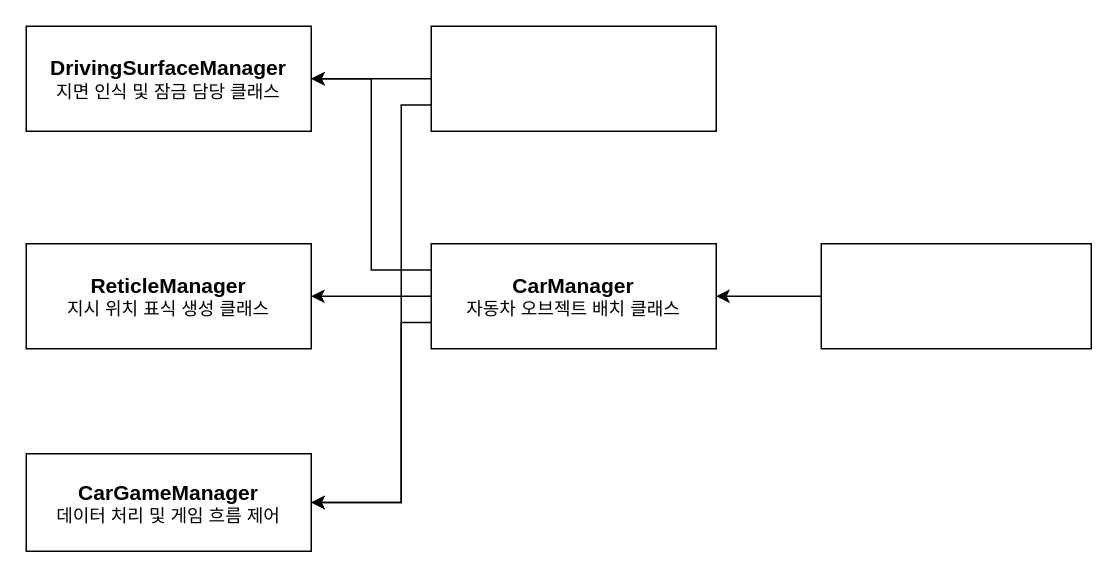
The diagram is 1118 pixels wide and 578 high, and some of its shapes have lost their labels. The shapes that lost their labels are listed below. From the top down, each one's centre as x and y in pixels, then its label:
At (x=573, y=78): "PointObjectManager 점수 오브젝트 관리 클래스".
At (x=955, y=295): "CarBehaviour 자동차 스크립트".
